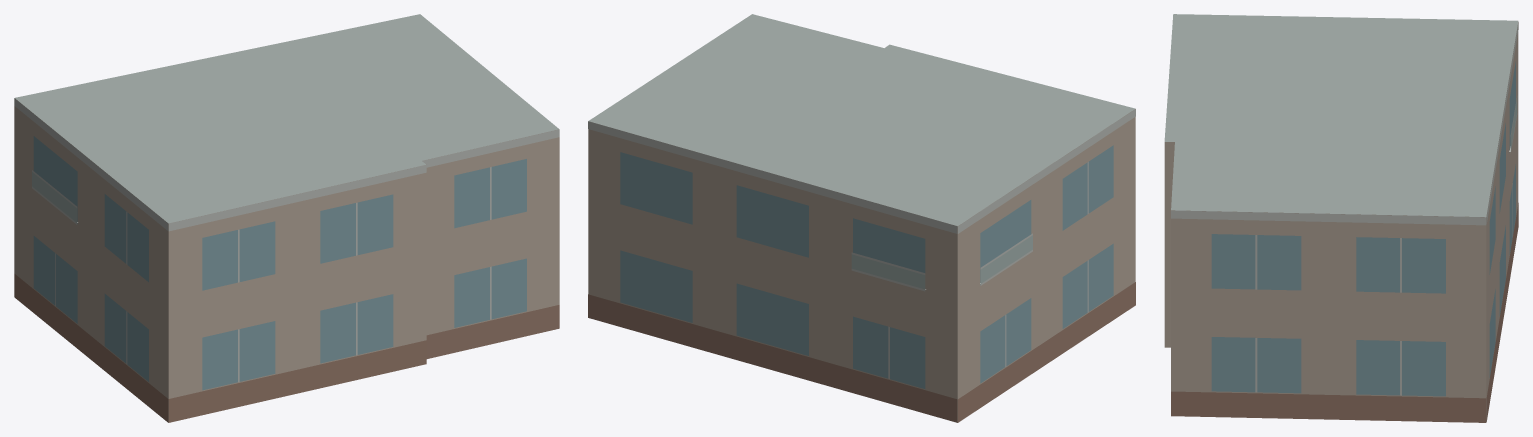
Rendered from survey-upis-32796882.glb.
The picture shows the model from 3 angles, left to right: view 1: azimuth 30°, elevation 25°; view 2: azimuth 150°, elevation 25°; view 3: azimuth 270°, elevation 25°; orthographic projection. The views are drawn at different scales.
Visible parts, largest first — view 1: survey-upis-32796882.tmp; view 2: survey-upis-32796882.tmp; view 3: survey-upis-32796882.tmp.
Part boxes in pixels (x1,y1,x2,y2): survey-upis-32796882.tmp: (14,14,559,422); survey-upis-32796882.tmp: (588,14,1135,422); survey-upis-32796882.tmp: (1164,14,1518,422).
Size of the model in its own units: 12.93 by 6.1 by 9.52.
